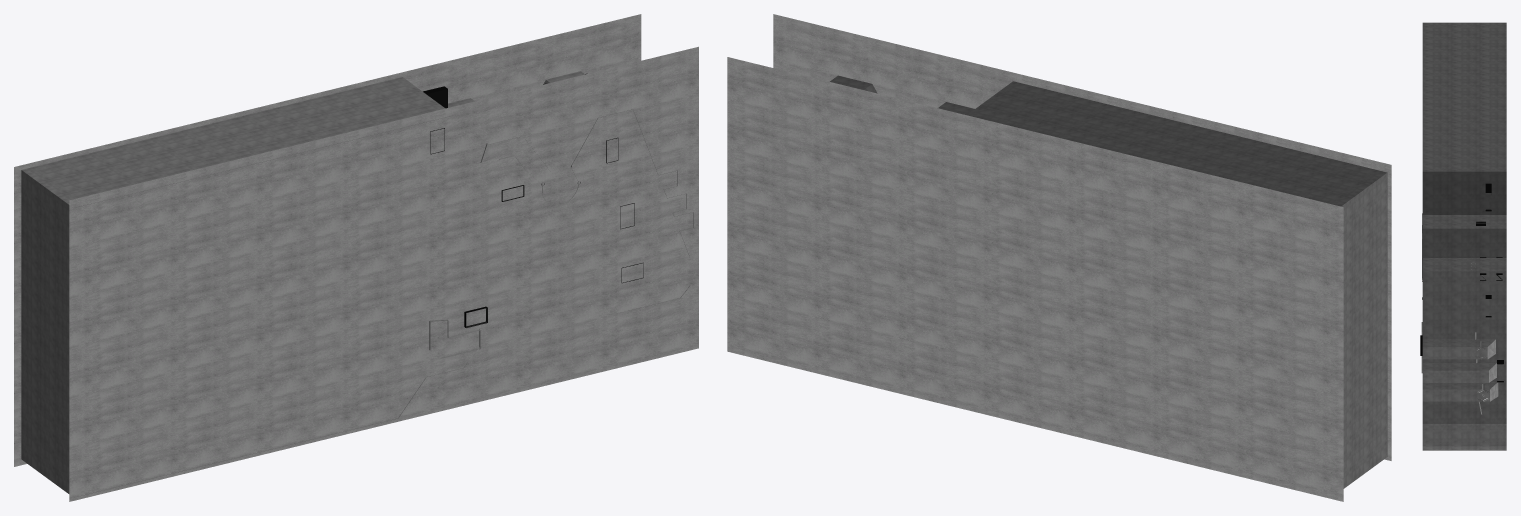
3 views of the same model, side by side, from view 1: azimuth 30°, elevation 25°; view 2: azimuth 150°, elevation 25°; view 3: azimuth 270°, elevation 25° (orthographic). The views are drawn at different scales.
Parts seen in each view (by area): view 1: wallMetalOut; view 2: wallMetalOut; view 3: wallMetalOut, A_decoGroup, wallMetal.
Boxes of the visible parts, x1=… form: wallMetalOut: x1=14, y1=14, x2=698, y2=501; wallMetalOut: x1=727, y1=14, x2=1391, y2=501; wallMetalOut: x1=1422, y1=22, x2=1506, y2=450; A_decoGroup: x1=1420, y1=183, x2=1503, y2=381; wallMetal: x1=1421, y1=213, x2=1488, y2=414.
Size of the model in its own units: 144656 by 67900 by 21277.
Materials: 12 (12 with a texture image).
